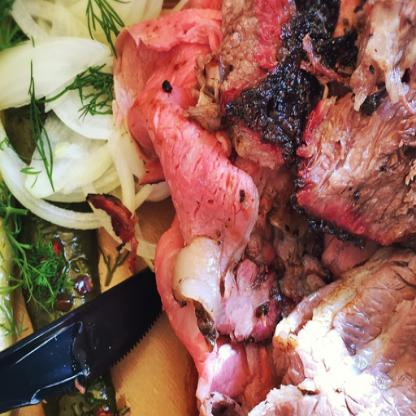knife: (0, 259, 168, 415)
